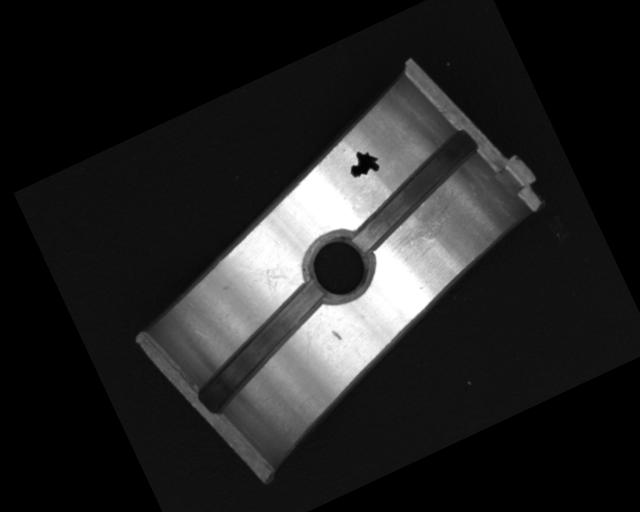blot: (342, 143, 384, 182)
bruise: (331, 326, 344, 342)
gap: (176, 279, 348, 415), (329, 126, 497, 253)
hole: (295, 221, 380, 308)
scratch: (374, 178, 479, 261)
